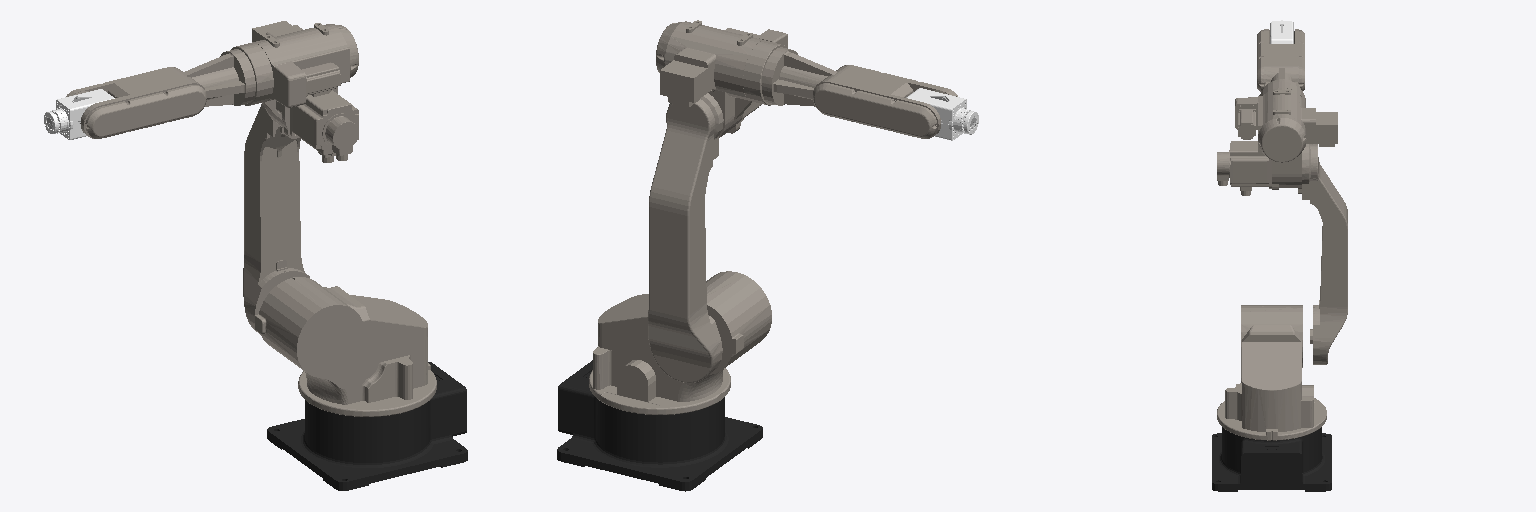
URDF robot description (i608):
<?xml version="1.0" encoding="utf-8"?>
<!-- This URDF was automatically created by SolidWorks to URDF Exporter! Originally created by [author] ([email redacted]) 
     Commit Version: 1.6.0-4-g7f85cfe  Build Version: 1.6.7995.38578
     For more information, please see http://wiki.ros.org/sw_urdf_exporter -->
<robot name="i608">
	<link name="base_link">
		<visual>
			<origin xyz="0 0 0" rpy="0 0 0" />
			<geometry>
				<mesh filename="package://icnc_resources_i608_description/meshes/base_link.STL" />
			</geometry>
			<material name="">
				<color rgba="0.2 0.2 0.2 1" />
			</material>
		</visual>
		<collision>
			<origin xyz="0 0 0" rpy="0 0 0" />
			<geometry>
				<mesh filename="package://icnc_resources_i608_description/meshes/base_link.STL" />
			</geometry>
		</collision>
	</link>
	<link name="link_2">
		<visual>
			<origin xyz="0 0 0" rpy="0 0 0" />
			<geometry>
				<mesh filename="package://icnc_resources_i608_description/meshes/link_2.STL" />
			</geometry>
			<material name="">
				<color rgba="0.64706 0.61961 0.58824 1" />
			</material>
		</visual>
		<collision>
			<origin xyz="0 0 0" rpy="0 0 0" />
			<geometry>
				<mesh filename="package://icnc_resources_i608_description/meshes/link_2.STL" />
			</geometry>
		</collision>
	</link>
	<joint name="joint_1" type="revolute">
		<origin xyz="0 0 0.17" rpy="0 0 0" />
		<parent link="base_link" />
		<child link="link_2" />
		<axis xyz="0 0 1" />
		<limit lower="-2.8798" upper="2.8798" effort="0" velocity="0" />
	</joint>
	<link name="link_3">
		<visual>
			<origin xyz="0 0 0" rpy="0 0 0" />
			<geometry>
				<mesh filename="package://icnc_resources_i608_description/meshes/link_3.STL" />
			</geometry>
			<material name="">
				<color rgba="0.64706 0.61961 0.58824 1" />
			</material>
		</visual>
		<collision>
			<origin xyz="0 0 0" rpy="0 0 0" />
			<geometry>
				<mesh filename="package://icnc_resources_i608_description/meshes/link_3.STL" />
			</geometry>
		</collision>
	</link>
	<joint name="joint_2" type="revolute">
		<origin xyz="-0.16933 0.098418 0.21503" rpy="-1.5708 0 3.1416" />
		<parent link="link_2" />
		<child link="link_3" />
		<axis xyz="0 0 1" />
		<limit lower="-2.7053" upper="1.5708" effort="0" velocity="0" />
	</joint>
	<link name="link_4">
		<visual>
			<origin xyz="0 0 0" rpy="0 0 0" />
			<geometry>
				<mesh filename="package://icnc_resources_i608_description/meshes/link_4.STL" />
			</geometry>
			<material name="">
				<color rgba="0.64706 0.61961 0.58824 1" />
			</material>
		</visual>
		<collision>
			<origin xyz="0 0 0" rpy="0 0 0" />
			<geometry>
				<mesh filename="package://icnc_resources_i608_description/meshes/link_4.STL" />
			</geometry>
		</collision>
	</link>
	<joint name="joint_3" type="revolute">
		<origin xyz="0 -0.625 0" rpy="1.5708 0 -1.5708" />
		<parent link="link_3" />
		<child link="link_4" />
		<axis xyz="0 1 0" />
		<limit lower="-1.2217" upper="3.8397" effort="0" velocity="0" />
	</joint>
	<link name="link_5">
		<visual>
			<origin xyz="0 0 0" rpy="0 0 0" />
			<geometry>
				<mesh filename="package://icnc_resources_i608_description/meshes/link_5.STL" />
			</geometry>
			<material name="">
				<color rgba="0.64706 0.61961 0.58824 1" />
			</material>
		</visual>
		<collision>
			<origin xyz="0 0 0" rpy="0 0 0" />
			<geometry>
				<mesh filename="package://icnc_resources_i608_description/meshes/link_5.STL" />
			</geometry>
		</collision>
	</link>
	<joint name="joint_4" type="revolute">
		<origin xyz="0.13 0.064918 -0.191" rpy="-1.5708 0 0" />
		<parent link="link_4" />
		<child link="link_5" />
		<axis xyz="0 1 0" />
		<limit lower="-2.9671" upper="2.9671" effort="0" velocity="0" />
	</joint>
	<link name="link_6">
		<visual>
			<origin xyz="0 0 0" rpy="0 0 0" />
			<geometry>
				<mesh filename="package://icnc_resources_i608_description/meshes/link_6.STL" />
			</geometry>
			<material name="">
				<color rgba="1 1 1 1" />
			</material>
		</visual>
		<collision>
			<origin xyz="0 0 0" rpy="0 0 0" />
			<geometry>
				<mesh filename="package://icnc_resources_i608_description/meshes/link_6.STL" />
			</geometry>
		</collision>
	</link>
	<joint name="joint_5" type="revolute">
		<origin xyz="0 0.459 0" rpy="0 0 3.1416" />
		<parent link="link_5" />
		<child link="link_6" />
		<axis xyz="0 0 1" />
		<limit lower="-2.0944" upper="2.0944" effort="0" velocity="0" />
	</joint>
	<link name="gripper">
		<visual>
			<origin xyz="0 0 0" rpy="0 0 0" />
			<geometry>
				<mesh filename="package://icnc_resources_i608_description/meshes/gripper.STL" />
			</geometry>
			<material name="">
				<color rgba="0.75294 0.75294 0.75294 1" />
			</material>
		</visual>
		<collision>
			<origin xyz="0 0 0" rpy="0 0 0" />
			<geometry>
				<mesh filename="package://icnc_resources_i608_description/meshes/gripper.STL" />
			</geometry>
		</collision>
	</link>
	<joint name="joint_6" type="continuous">
		<origin xyz="0 -0.1216 0.0004" rpy="1.5549 1.5708 0" />
		<parent link="link_6" />
		<child link="gripper" />
		<axis xyz="0 0.015937 0.99987" />
	</joint>
</robot>

--- Render facts (derived) ---
The picture shows the robot from 3 angles, left to right: view 1: azimuth 30°, elevation 25°; view 2: azimuth 150°, elevation 25°; view 3: azimuth 270°, elevation 25°; orthographic projection.
Robot: i608 — 7 links, 6 joints (5 revolute, 1 continuous); root link base_link; default pose: all joints at 0.
Links seen in each view (by area): view 1: link_2, base_link, link_4, link_3, link_5, link_6; view 2: link_3, base_link, link_2, link_4, link_5, link_6; view 3: link_2, link_4, base_link, link_3, link_5, link_6.
Link boxes in pixels (x1,y1,x2,y2): link_2: (255, 277, 436, 416); base_link: (267, 362, 467, 490); link_4: (231, 21, 358, 162); link_3: (243, 102, 309, 334); link_5: (66, 49, 255, 138); link_6: (44, 89, 114, 139); link_3: (648, 93, 723, 382); base_link: (557, 360, 762, 491); link_2: (589, 271, 771, 414); link_4: (656, 20, 787, 137); link_5: (761, 47, 957, 138); link_6: (906, 88, 978, 140); link_2: (1217, 305, 1326, 440); link_4: (1217, 81, 1337, 195); base_link: (1212, 427, 1331, 491); link_3: (1302, 144, 1347, 364); link_5: (1257, 29, 1304, 91); link_6: (1270, 20, 1293, 43).
Size in the robot's own frame: 1.18 by 0.448 by 1.23 metres.
Meshes: 7 distinct files referenced, 7 mesh visuals loaded (7 binary STL).
